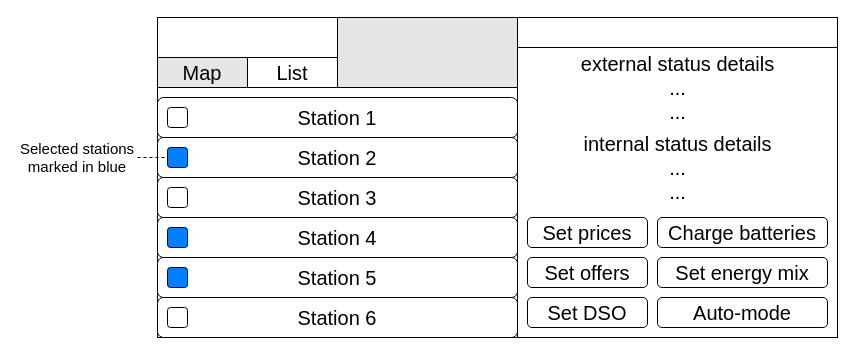
This 855x355 diagram has some shape labels left out. The shapes that lost their labels are listed below. From the top down, each one's box as (x1, y1, x2, y2) in pixels, then its label:
(156, 16, 338, 58): Stations
(336, 16, 518, 88): DSO
(516, 16, 838, 48): Details
